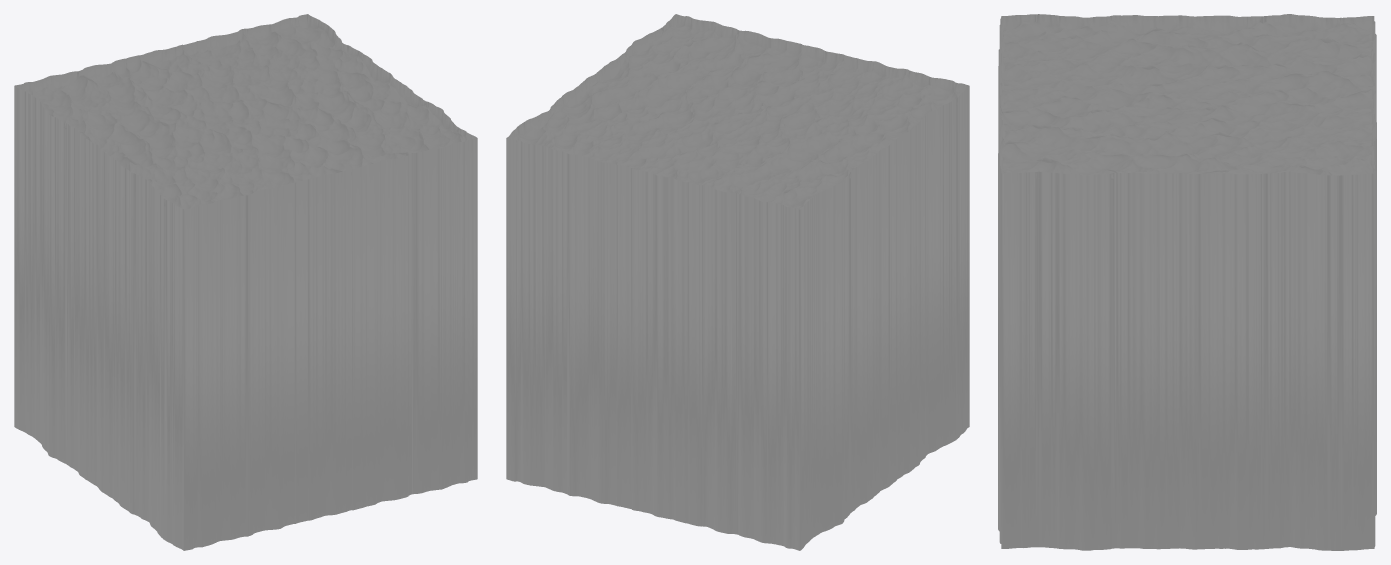
Rendered from cloud_box.glb.
The picture shows the model from 3 angles, left to right: view 1: azimuth 30°, elevation 25°; view 2: azimuth 150°, elevation 25°; view 3: azimuth 270°, elevation 25°; orthographic projection. The views are drawn at different scales.
Parts seen in each view (by area): view 1: Cloud_Box; view 2: Cloud_Box; view 3: Cloud_Box.
Boxes of the visible parts, x1=… form: Cloud_Box: x1=14, y1=14, x2=477, y2=550; Cloud_Box: x1=506, y1=14, x2=969, y2=550; Cloud_Box: x1=998, y1=14, x2=1376, y2=550.
Bounding box in the file's own units: 61.3 × 66.42 × 60.73.
Materials: 1 (1 with a texture image).
